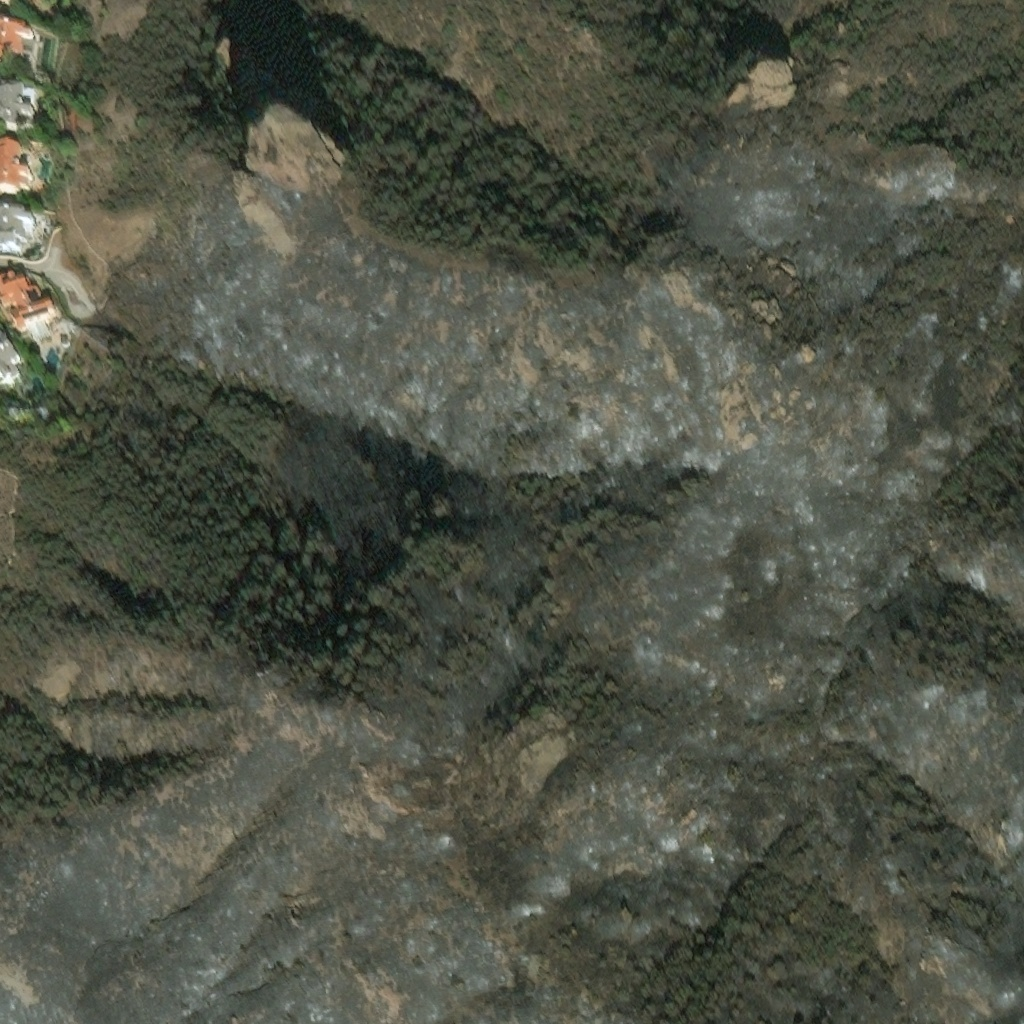0 no-damage: (0, 278, 61, 342), (0, 24, 38, 73), (0, 89, 38, 137), (0, 214, 38, 262), (0, 334, 23, 385), (6, 401, 48, 416), (0, 0, 42, 9)
